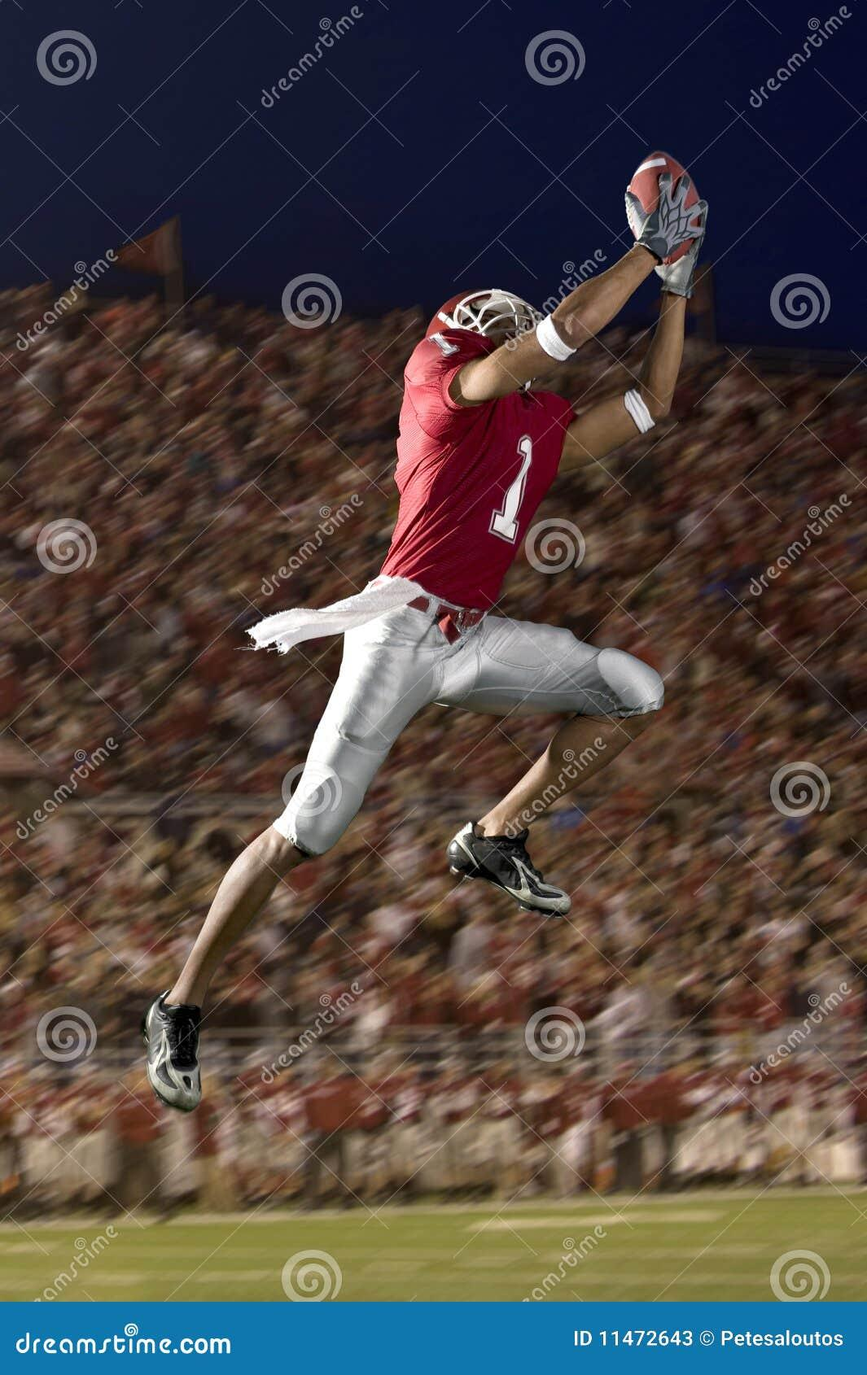americanFootball: (621, 157, 704, 254)
